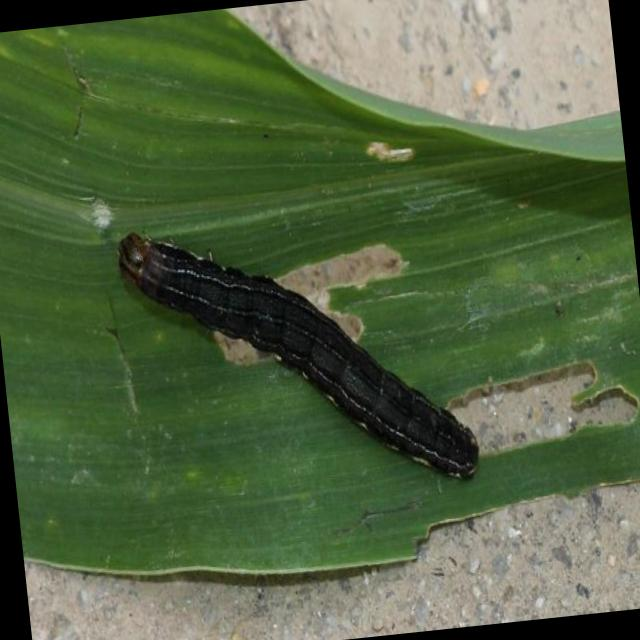armyworm: (110, 186, 495, 520)
